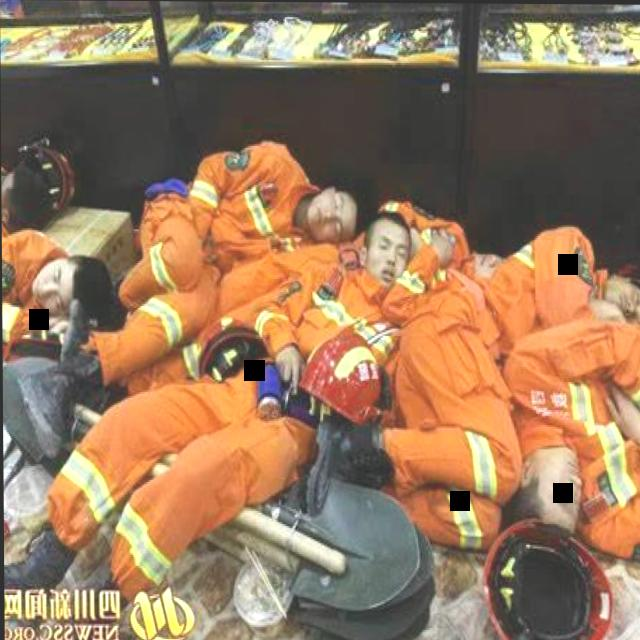Fall-Detected: (195, 202, 373, 390)
